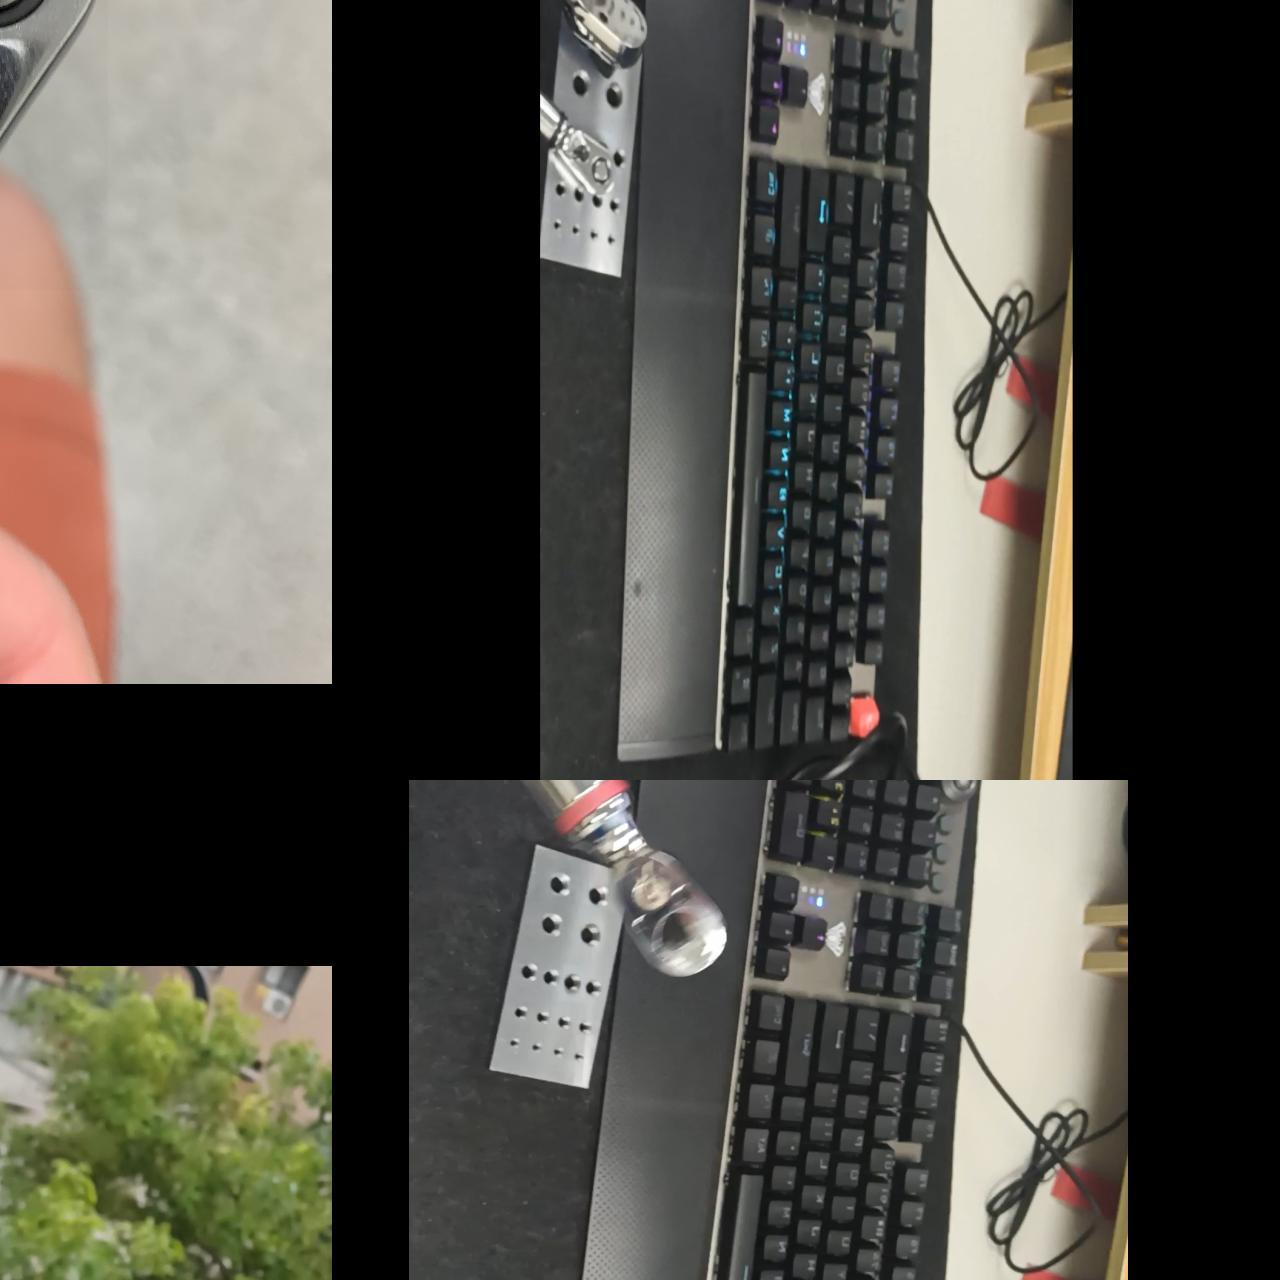Tool: (0, 0, 107, 290), (545, 0, 654, 65), (548, 110, 618, 193)
hole: (597, 75, 625, 106), (536, 911, 565, 939), (581, 924, 608, 952), (559, 71, 586, 98), (545, 873, 572, 899), (588, 884, 613, 908), (605, 145, 627, 170), (541, 967, 564, 990), (517, 963, 540, 986), (565, 969, 582, 1000), (585, 977, 607, 998), (557, 1011, 575, 1035), (513, 1005, 534, 1024), (591, 190, 606, 216), (608, 196, 628, 215), (604, 232, 620, 253), (554, 170, 565, 199), (572, 186, 586, 207), (506, 1034, 523, 1051), (577, 1018, 593, 1036), (553, 1045, 565, 1065), (540, 1008, 550, 1027), (575, 1048, 586, 1065), (588, 227, 597, 247), (532, 1041, 542, 1058), (554, 218, 563, 233), (571, 223, 577, 236)
